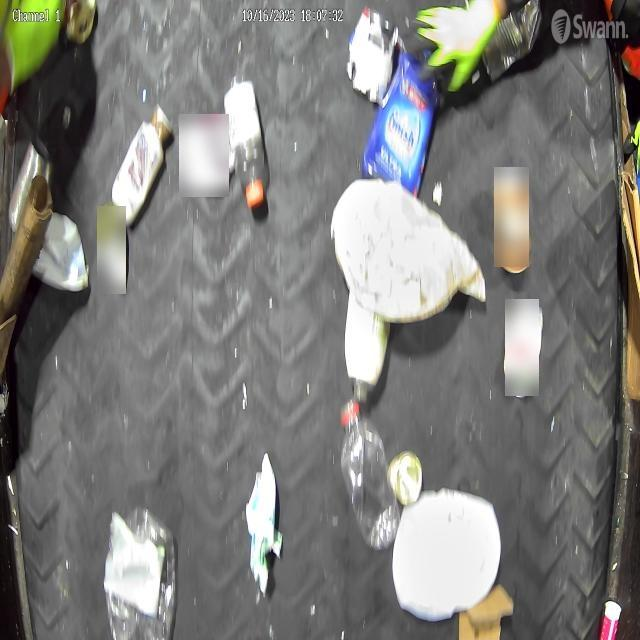milk_jug: (393, 487, 502, 619)
plastic_bottle: (340, 391, 396, 545), (222, 72, 266, 209)
